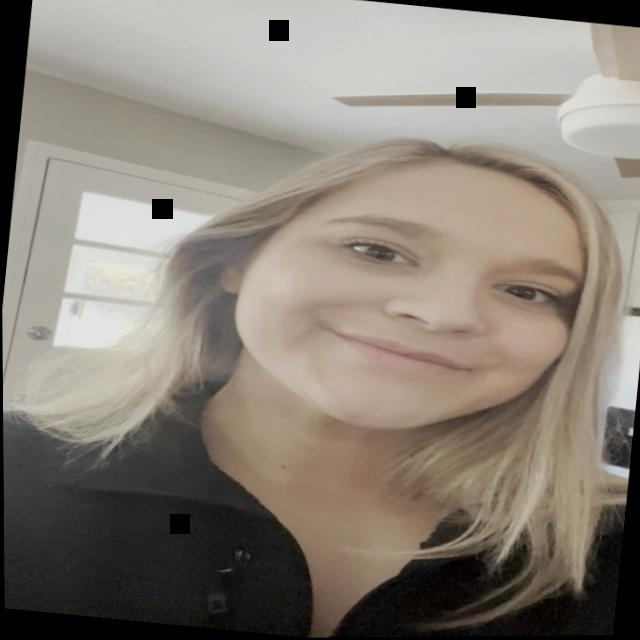NO-Mask: (206, 138, 612, 489)
